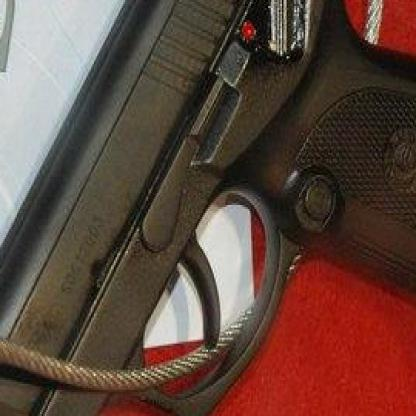gun: (0, 0, 415, 415), (0, 0, 122, 217)
